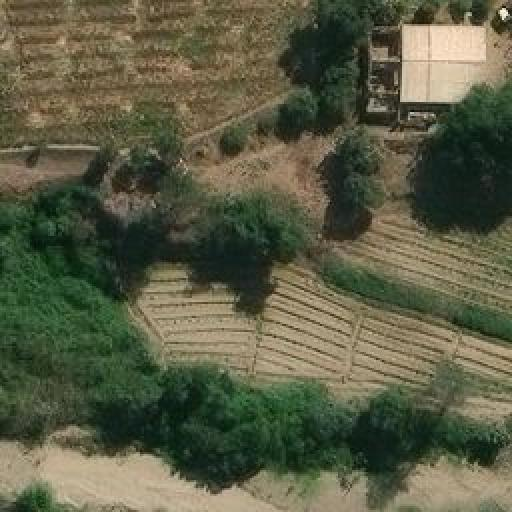manzanas: (355, 0, 510, 128)
